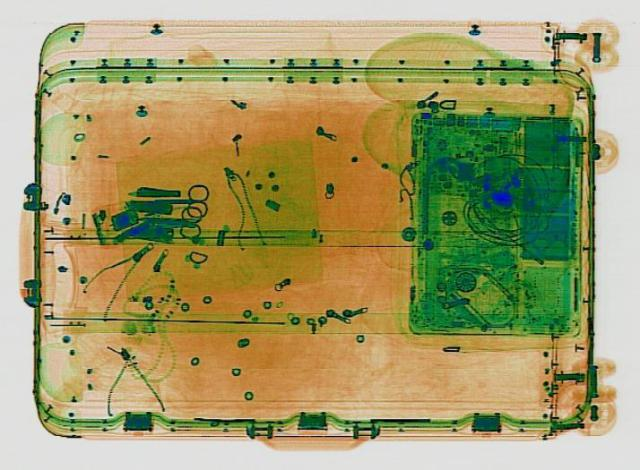Scissors: (131, 202, 205, 236), (145, 181, 211, 217)
